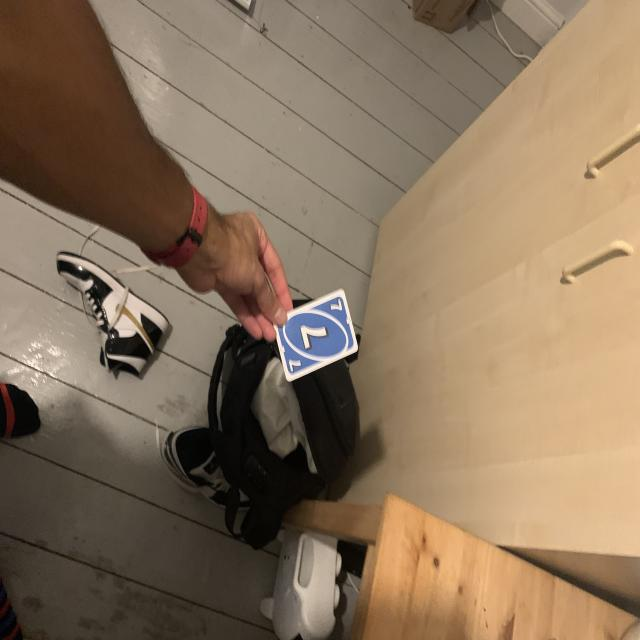lblue-7: (326, 294, 346, 316)
